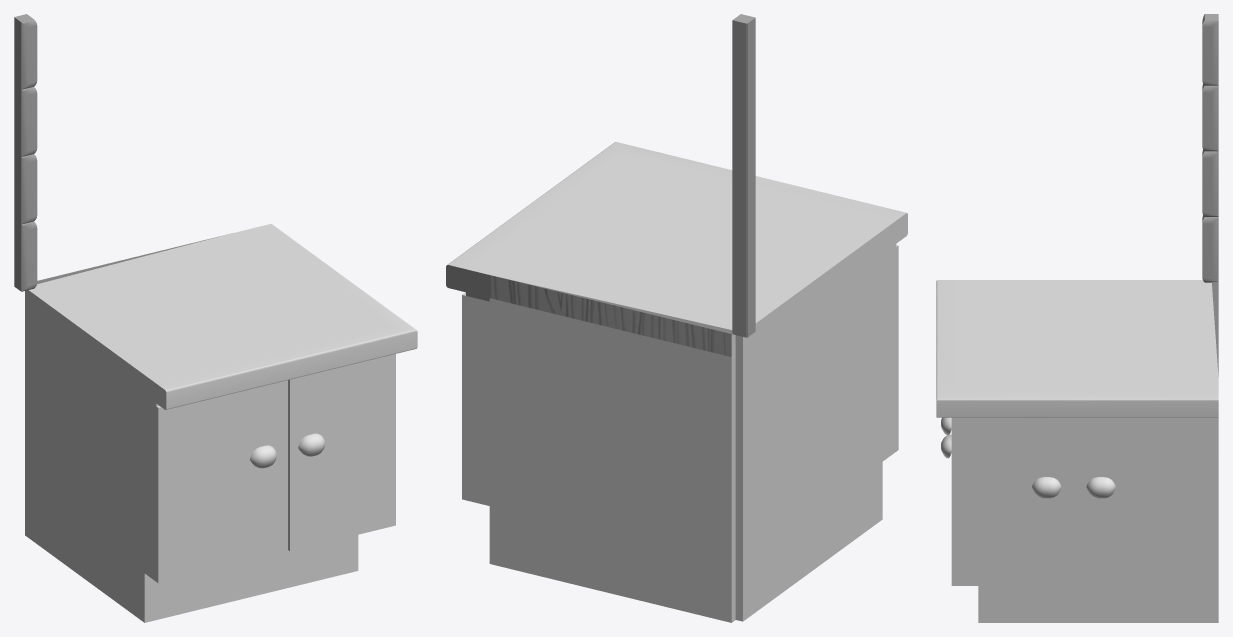
The model's file is geo_counterCornerOut.fbx.
The picture shows the model from 3 angles, left to right: view 1: azimuth 30°, elevation 25°; view 2: azimuth 150°, elevation 25°; view 3: azimuth 270°, elevation 25°; orthographic projection. The views are drawn at different scales.
Visible parts, largest first — view 1: geo_counterCornerOut; view 2: geo_counterCornerOut; view 3: geo_counterCornerOut.
Boxes of the visible parts, left/top/right/bottom form: geo_counterCornerOut: left=14, top=14, right=417, bottom=622; geo_counterCornerOut: left=446, top=14, right=907, bottom=622; geo_counterCornerOut: left=936, top=14, right=1218, bottom=622.
Size of the model in its own units: 1 by 1.92 by 0.9759.
1 material, 1 textured.
